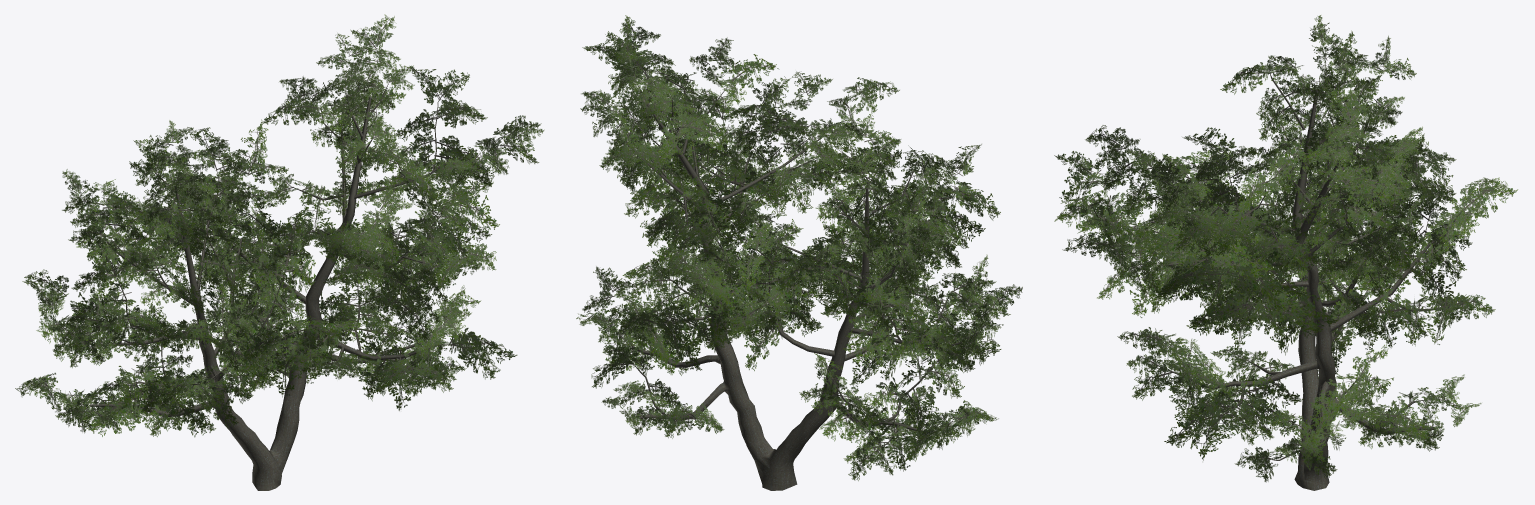
File: oak_big_4.glb
3 views of the same model, side by side, from view 1: azimuth 30°, elevation 25°; view 2: azimuth 150°, elevation 25°; view 3: azimuth 270°, elevation 25° (orthographic). The views are drawn at different scales.
Parts seen in each view (by area): view 1: Big_oak_tree__004_LOD1_Cluster_Mat_0, Big_oak_tree__004_LOD1_Bark_Mat_0; view 2: Big_oak_tree__004_LOD1_Cluster_Mat_0, Big_oak_tree__004_LOD1_Bark_Mat_0; view 3: Big_oak_tree__004_LOD1_Cluster_Mat_0, Big_oak_tree__004_LOD1_Bark_Mat_0.
Part boxes in pixels (x1=…): Big_oak_tree__004_LOD1_Cluster_Mat_0: x1=15, y1=14, x2=544, y2=437; Big_oak_tree__004_LOD1_Bark_Mat_0: x1=87, y1=82, x2=469, y2=490; Big_oak_tree__004_LOD1_Cluster_Mat_0: x1=576, y1=15, x2=1022, y2=480; Big_oak_tree__004_LOD1_Bark_Mat_0: x1=626, y1=62, x2=962, y2=490; Big_oak_tree__004_LOD1_Cluster_Mat_0: x1=1054, y1=15, x2=1517, y2=482; Big_oak_tree__004_LOD1_Bark_Mat_0: x1=1150, y1=73, x2=1461, y2=490.
Size of the model in its own units: 24.25 by 21.39 by 19.39.
2 materials, 2 textured.
